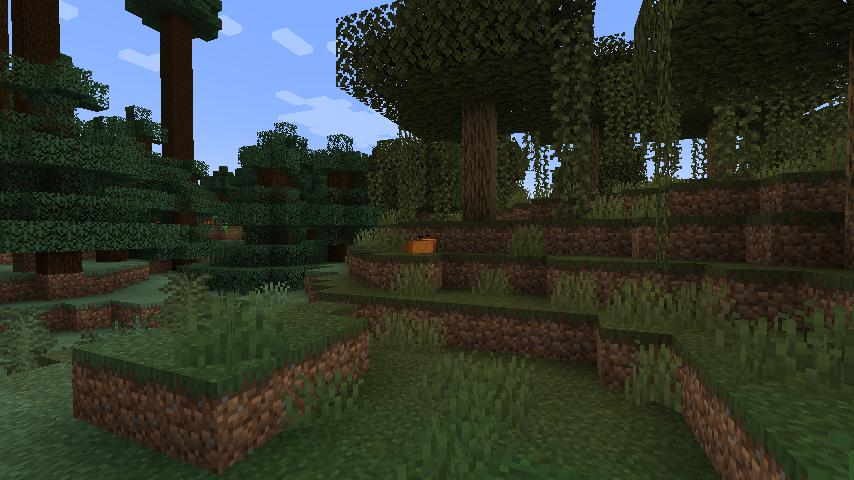fox: (402, 230, 441, 261)
